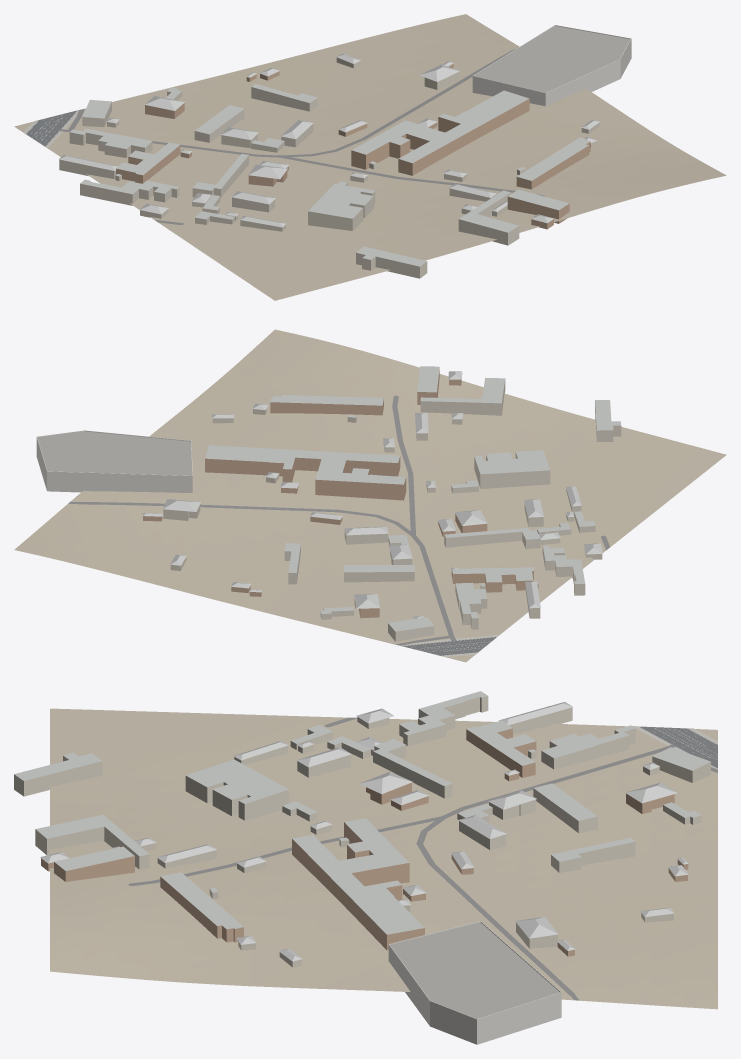
File: bolak_9_-11.glb
3 views of the same model, one above another, from view 1: azimuth 30°, elevation 25°; view 2: azimuth 150°, elevation 25°; view 3: azimuth 270°, elevation 25° (orthographic). The views are drawn at different scales.
Parts seen in each view (by area): view 1: Yer_Tuproq-col, Tom_Shifer, Devor_Suvoq-col, Devor_Gisht-col, Tom_Tekis, Devor_Dokon-col, Yol_Mahalla-col, Yol_Asfalt-col; view 2: Yer_Tuproq-col, Tom_Shifer, Devor_Suvoq-col, Devor_Gisht-col, Tom_Tekis, Devor_Dokon-col, Yol_Mahalla-col, Yol_Asfalt-col; view 3: Yer_Tuproq-col, Tom_Shifer, Devor_Suvoq-col, Tom_Tekis, Devor_Gisht-col, Devor_Dokon-col, Yol_Mahalla-col, Yol_Asfalt-col.
Part boxes in pixels (x1=…): Yer_Tuproq-col: x1=14, y1=14, x2=726, y2=300; Tom_Shifer: x1=59, y1=53, x2=599, y2=266; Devor_Suvoq-col: x1=59, y1=57, x2=599, y2=278; Devor_Gisht-col: x1=116, y1=63, x2=590, y2=229; Tom_Tekis: x1=475, y1=26, x2=630, y2=92; Devor_Dokon-col: x1=472, y1=25, x2=631, y2=106; Yol_Mahalla-col: x1=60, y1=48, x2=544, y2=224; Yol_Asfalt-col: x1=26, y1=110, x2=77, y2=146; Yer_Tuproq-col: x1=14, y1=329, x2=726, y2=662; Tom_Shifer: x1=142, y1=366, x2=621, y2=631; Devor_Suvoq-col: x1=163, y1=379, x2=621, y2=641; Devor_Gisht-col: x1=143, y1=369, x2=533, y2=618; Tom_Tekis: x1=37, y1=431, x2=192, y2=475; Devor_Dokon-col: x1=36, y1=430, x2=192, y2=492; Yol_Mahalla-col: x1=68, y1=395, x2=609, y2=645; Yol_Asfalt-col: x1=402, y1=637, x2=496, y2=655; Yer_Tuproq-col: x1=50, y1=708, x2=717, y2=1009; Tom_Shifer: x1=14, y1=691, x2=710, y2=961; Devor_Suvoq-col: x1=14, y1=696, x2=710, y2=967; Tom_Tekis: x1=390, y1=922, x2=559, y2=1018; Devor_Gisht-col: x1=41, y1=728, x2=688, y2=956; Devor_Dokon-col: x1=388, y1=921, x2=561, y2=1044; Yol_Mahalla-col: x1=128, y1=717, x2=717, y2=1000; Yol_Asfalt-col: x1=638, y1=726, x2=717, y2=768.
Size of what is drawn, in the model's own units: 487 by 30.76 by 427.
